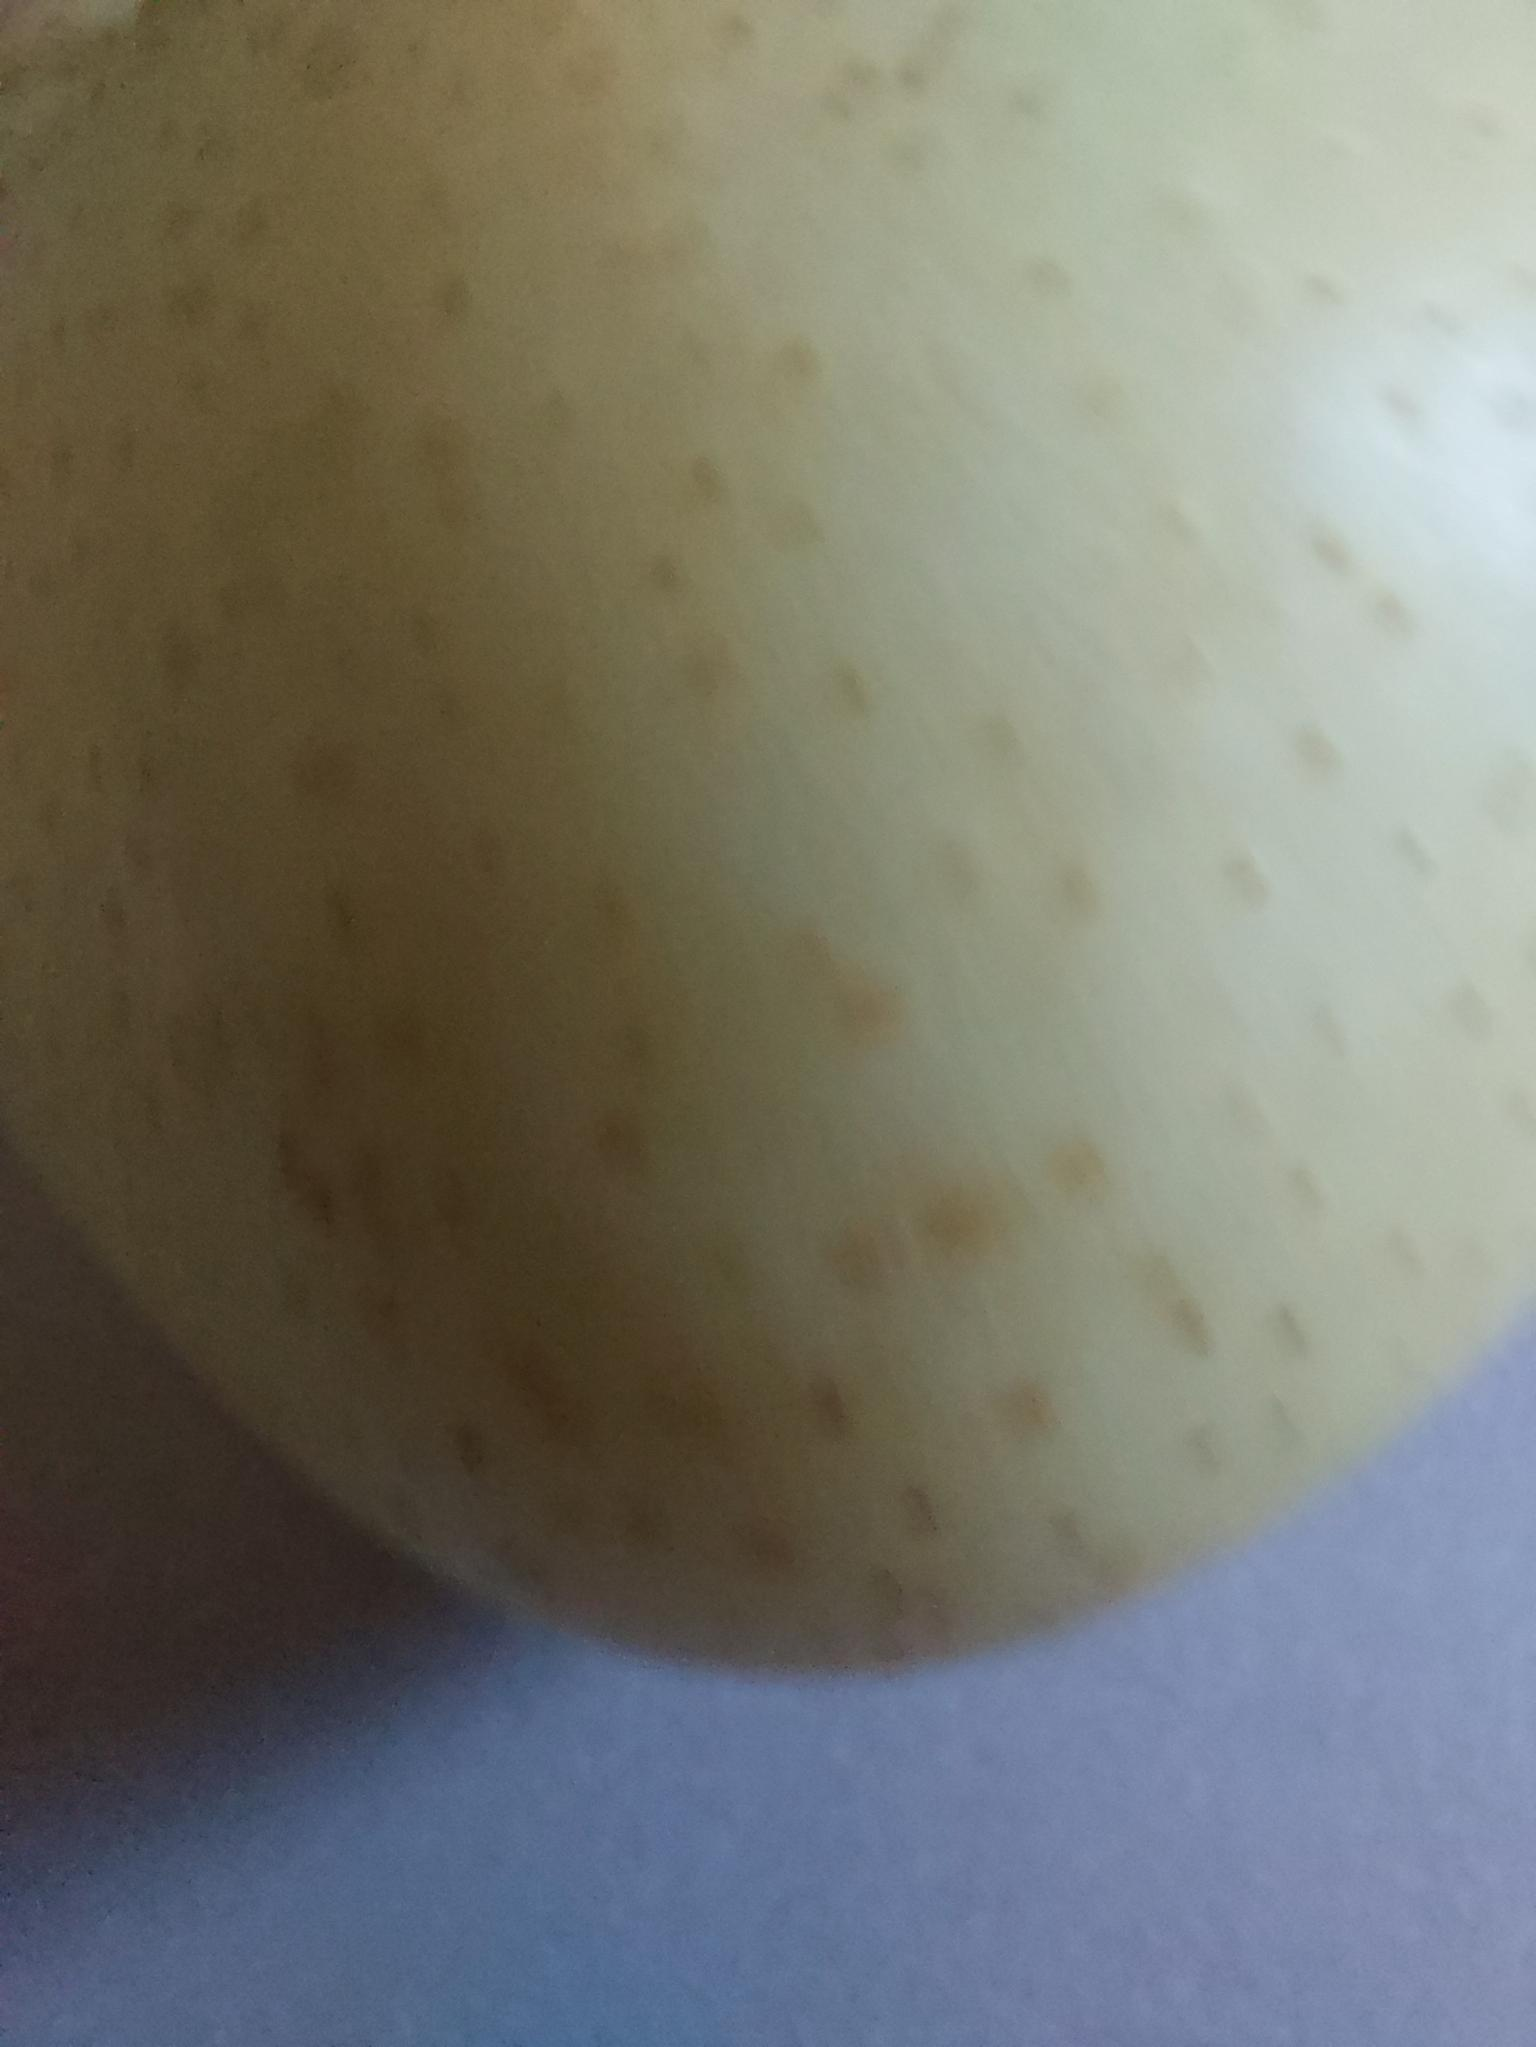Good Pear: (0, 0, 1536, 1692)
